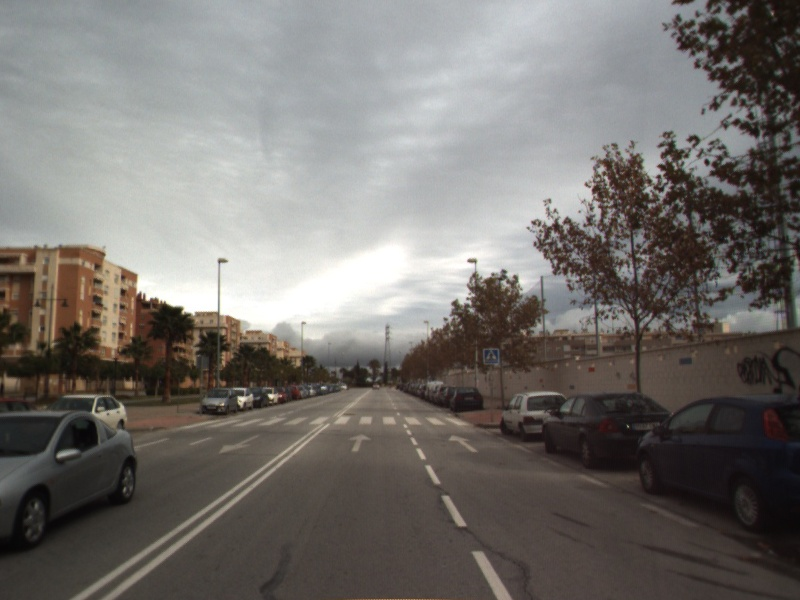STRAIGHT: (446, 432, 480, 454), (346, 431, 374, 453)
